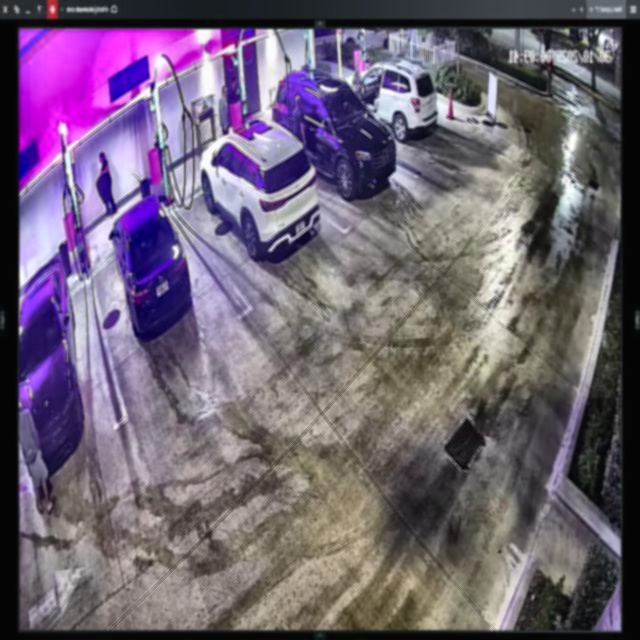Car: (272, 64, 395, 198), (200, 119, 320, 256), (109, 186, 191, 339)
